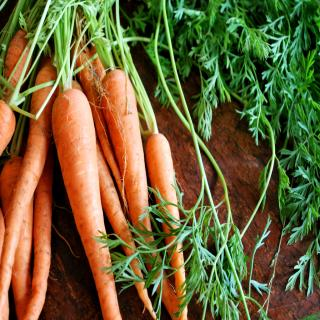Carrot: (50, 0, 123, 320), (0, 29, 52, 319), (145, 132, 189, 320)
